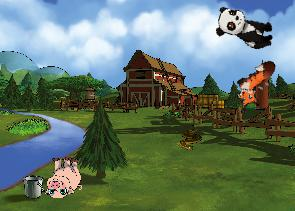fox: (226, 57, 288, 114)
panda: (212, 4, 278, 52)
pig: (44, 156, 82, 198)
